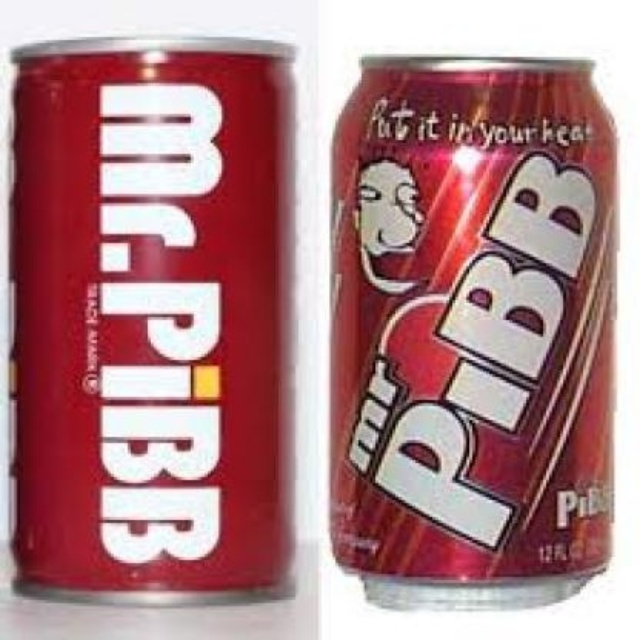trash: (12, 40, 291, 595), (331, 57, 614, 578)
